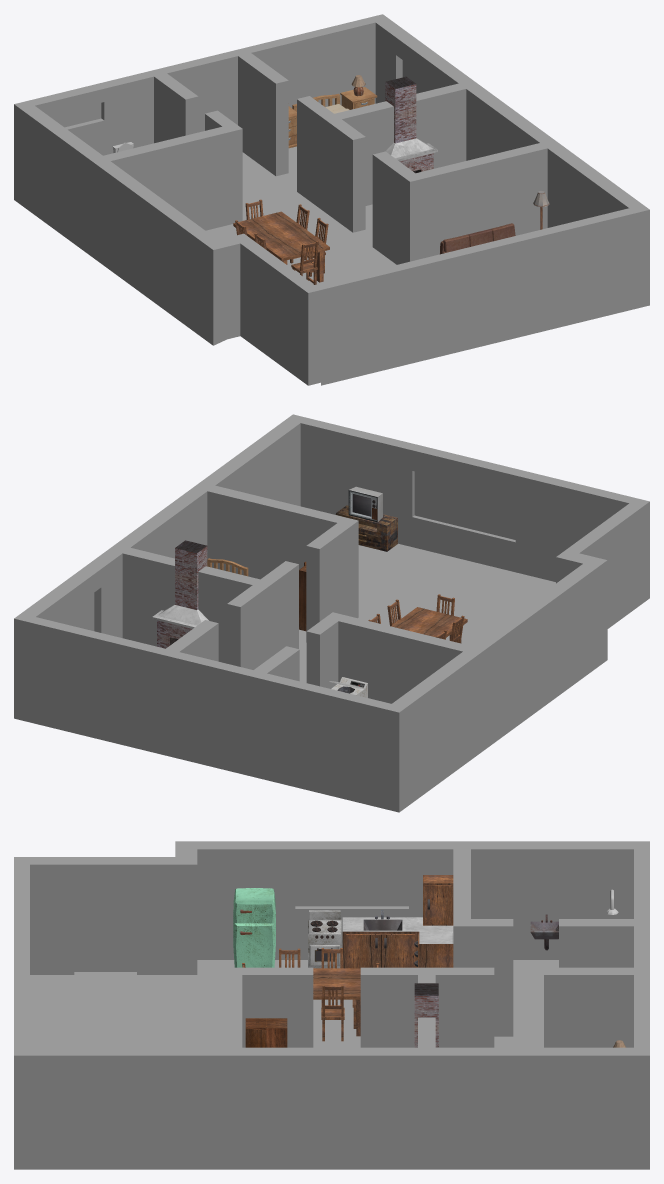
File: H3_Int_Clean.fbx
3 views of the same model, one above another, from view 1: azimuth 30°, elevation 25°; view 2: azimuth 150°, elevation 25°; view 3: azimuth 270°, elevation 25° (orthographic). The views are drawn at different scales.
Visible parts, largest first — view 1: House_1_Interior6, Fire_Place_7, Table3, Couch_7, Chair10, Bedside_Draws7; view 2: House_1_Interior6, Fire_Place_7, Tv_stand3, Table3, Tube_tv4; view 3: House_1_Interior6, KItchen_Sink11, Fidge3, StoveTop3, Table3, Closet4, Fire_Place_7, Chair6, Sink2.
Boxes of the visible parts, x1,y1,x2,y2 form: House_1_Interior6: (14,14,649,385); Fire_Place_7: (385,76,437,173); Table3: (233,211,329,282); Couch_7: (440,223,515,254); Chair10: (291,241,318,284); Bedside_Draws7: (340,87,377,109); House_1_Interior6: (14,414,649,812); Fire_Place_7: (152,540,208,648); Tv_stand3: (336,505,397,551); Table3: (391,607,467,643); Tube_tv4: (348,486,382,522); House_1_Interior6: (14,841,649,1169); KItchen_Sink11: (342,875,453,968); Fidge3: (233,888,275,967); StoveTop3: (308,910,341,968); Table3: (313,968,360,1036); Closet4: (245,1018,287,1047); Fire_Place_7: (414,983,438,1047); Chair6: (321,985,344,1041); Sink2: (530,914,558,950).
Size of the model in its own units: 34.24 by 10.13 by 42.95.
